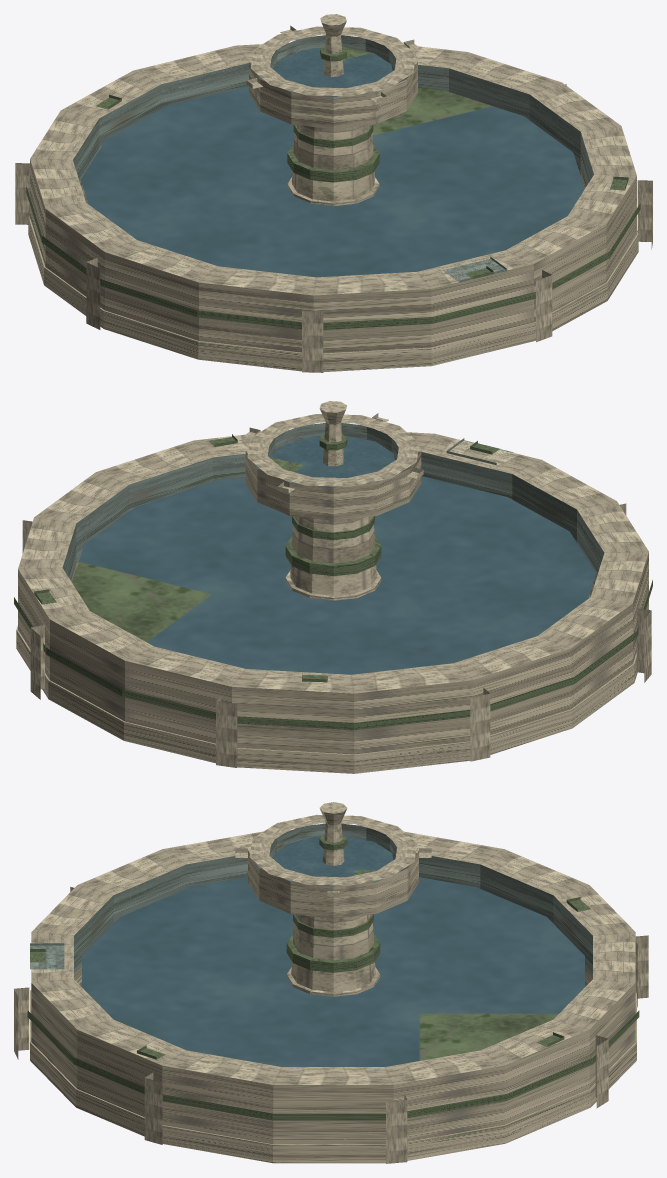
File: prop_haven_fountain_a.glb
The picture shows the model from 3 angles, top to bottom: view 1: azimuth 30°, elevation 25°; view 2: azimuth 150°, elevation 25°; view 3: azimuth 270°, elevation 25°; orthographic projection. The views are drawn at different scales.
Parts seen in each view (by area): view 1: prop_haven_fountain_a; view 2: prop_haven_fountain_a; view 3: prop_haven_fountain_a.
Part boxes in pixels (left/top/right/bottom): prop_haven_fountain_a: left=15, top=14, right=652, bottom=372; prop_haven_fountain_a: left=14, top=401, right=652, bottom=773; prop_haven_fountain_a: left=14, top=802, right=648, bottom=1163.
Size of the model in its own units: 4.11 by 1.61 by 4.11.
1 material, 1 textured.
